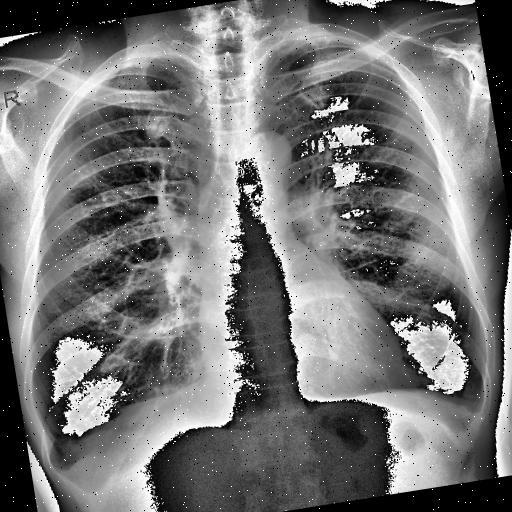10- Pleural effusion: (28, 422, 96, 492), (40, 426, 96, 476), (441, 382, 491, 436), (42, 452, 94, 498), (454, 384, 490, 422), (460, 394, 492, 425)
11- Pleural thickening: (28, 422, 96, 492), (278, 22, 360, 58), (40, 426, 96, 476), (285, 21, 362, 57), (441, 382, 491, 436), (97, 48, 169, 82), (42, 452, 94, 498), (96, 48, 164, 79), (100, 50, 156, 80), (454, 384, 490, 422), (460, 394, 492, 425)
